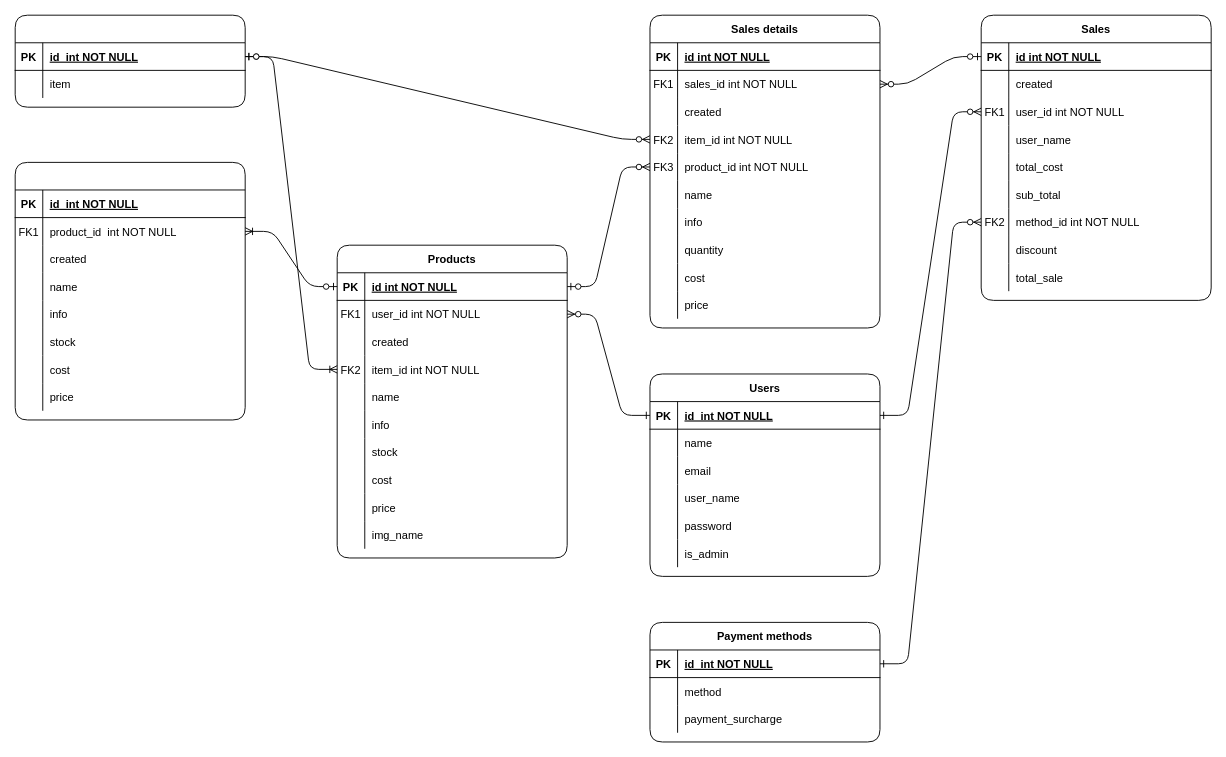
The diagram is 1226 pixels wide and 757 high, and some of its shapes have lost their labels. The shapes that lost their labels are listed below. From the top down, each one's box as (x1, y1, x2, y2) in pixels, then its label:
(14, 14, 245, 107): Type items
(14, 161, 245, 420): Price history
